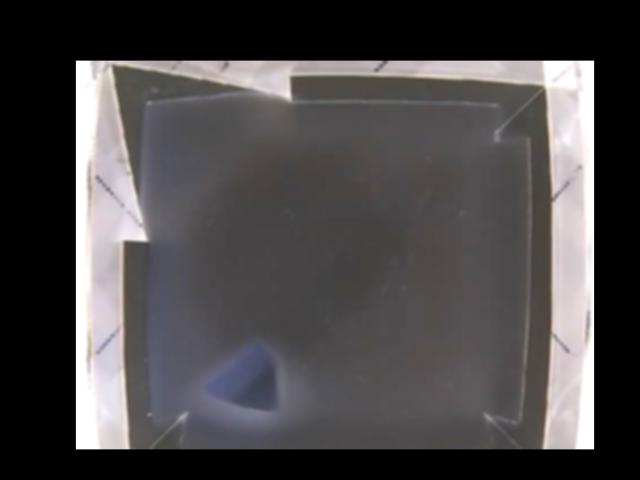Mooli: (200, 341, 279, 412)
